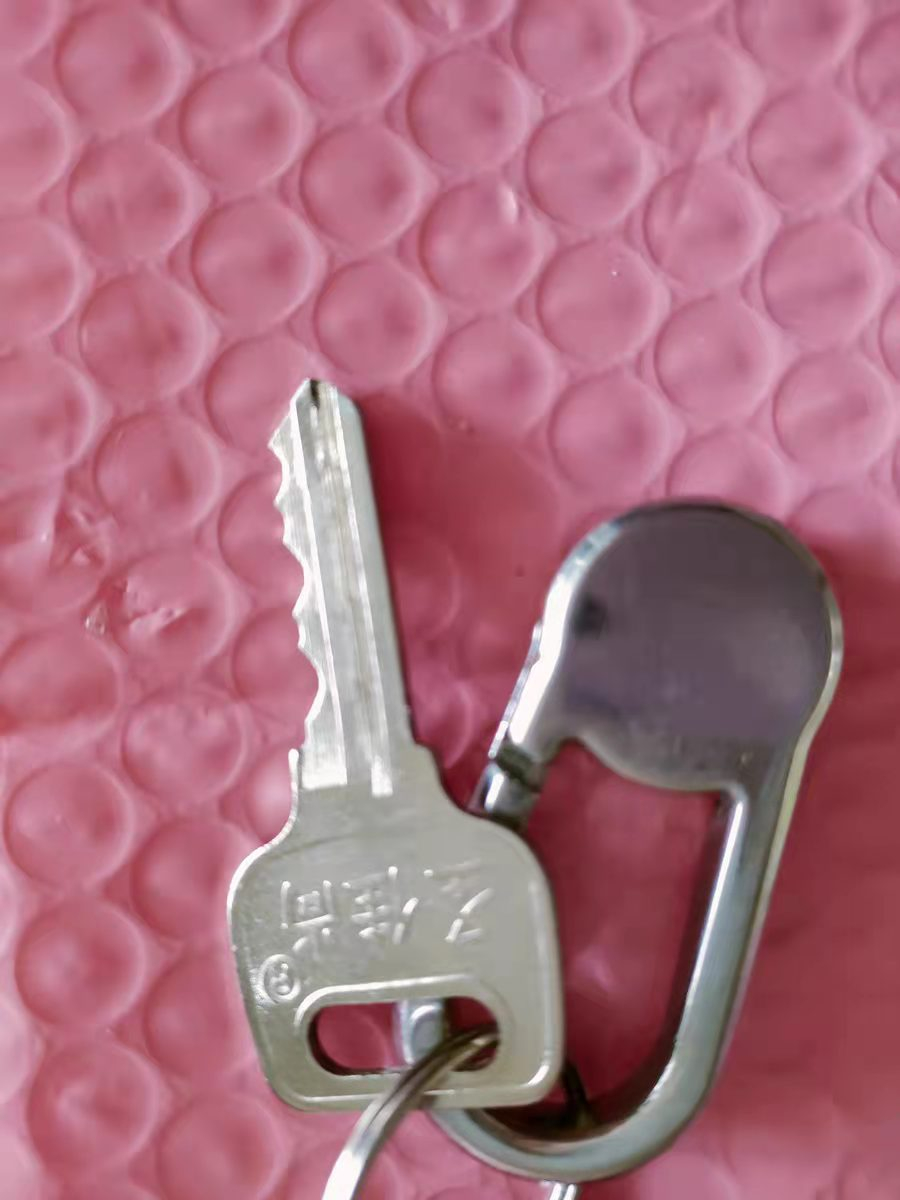key: (210, 366, 589, 1115)
